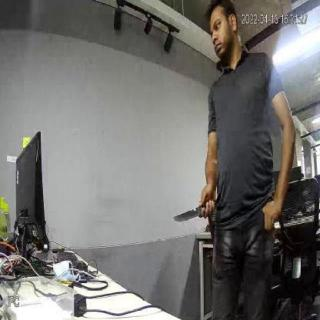knife: (173, 196, 203, 226)
